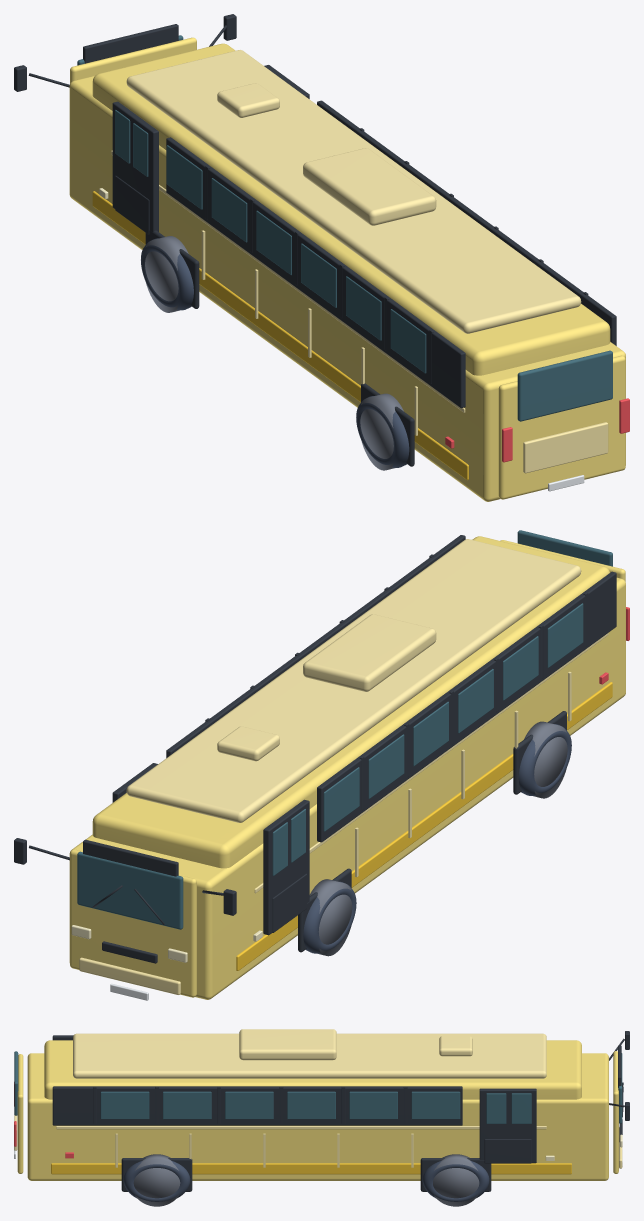
Rendered from shop_large_bus_yellow.fbx.
3 renders of one model, top to bottom at view 1: azimuth 30°, elevation 25°; view 2: azimuth 150°, elevation 25°; view 3: azimuth 270°, elevation 25°, orthographic. The views are drawn at different scales.
Visible parts, largest first — view 1: BusPop Live City Bus Flat Roof Highlight, BusPop Live City Bus Low Long Body, BusPop Live City Bus Upper Body Cap, BusPop Live City Bus Left Continuous Black Window Band, BusPop Live City Bus Rear Flat Face, BusPop Live City Bus Roof AC Long Unit, BusPop Live City Bus Rear Glass, BusPop Live City Bus Lower Yellow Skirt, BusPop Live City Bus Right Continuous Black Window Band, BusPop Live City Bus Rear Hatch Panel, BusPop Live City Bus Left Front Door Black Frame, BusPop Live City Bus Front Left Wheel Disc (+18 smaller); view 2: BusPop Live City Bus Flat Roof Highlight, BusPop Live City Bus Low Long Body, BusPop Live City Bus Upper Body Cap, BusPop Live City Bus Left Continuous Black Window Band, BusPop Live City Bus Front Flat Face, BusPop Live City Bus Roof AC Long Unit, BusPop Live City Bus Front Glass, BusPop Live City Bus Lower Yellow Skirt, BusPop Live City Bus Left Front Door Black Frame, BusPop Live City Bus Right Continuous Black Window Band, BusPop Live City Bus Rear Left Wheel Disc, BusPop Live City Bus Front Left Wheel Disc (+17 smaller); view 3: BusPop Live City Bus Low Long Body, BusPop Live City Bus Flat Roof Highlight, BusPop Live City Bus Upper Body Cap, BusPop Live City Bus Right Continuous Black Window Band, BusPop Live City Bus Lower Yellow Skirt, BusPop Live City Bus Roof AC Long Unit, BusPop Live City Bus Right Front Door Black Frame, BusPop Live City Bus Thin Body Belt, BusPop Live City Bus Front Right Wheel Disc, BusPop Live City Bus Rear Right Wheel Disc, BusPop Live City Bus Right Side Glass 1, BusPop Live City Bus Right Side Glass 6 (+15 smaller).
Boxes of the visible parts, <box> form: BusPop Live City Bus Flat Roof Highlight: <box>126,50,581,333</box>; BusPop Live City Bus Low Long Body: <box>69,75,625,501</box>; BusPop Live City Bus Upper Body Cap: <box>92,43,610,375</box>; BusPop Live City Bus Left Continuous Black Window Band: <box>166,137,465,408</box>; BusPop Live City Bus Rear Flat Face: <box>498,355,625,499</box>; BusPop Live City Bus Roof AC Long Unit: <box>303,148,436,225</box>; BusPop Live City Bus Rear Glass: <box>517,350,612,421</box>; BusPop Live City Bus Lower Yellow Skirt: <box>92,191,468,480</box>; BusPop Live City Bus Right Continuous Black Window Band: <box>317,100,616,345</box>; BusPop Live City Bus Rear Hatch Panel: <box>523,422,608,473</box>; BusPop Live City Bus Left Front Door Black Frame: <box>112,101,158,232</box>; BusPop Live City Bus Front Left Wheel Disc: <box>145,236,188,312</box>; BusPop Live City Bus Flat Roof Highlight: <box>126,539,581,822</box>; BusPop Live City Bus Low Long Body: <box>69,577,625,999</box>; BusPop Live City Bus Upper Body Cap: <box>92,536,609,868</box>; BusPop Live City Bus Left Continuous Black Window Band: <box>317,571,616,842</box>; BusPop Live City Bus Front Flat Face: <box>70,849,196,997</box>; BusPop Live City Bus Roof AC Long Unit: <box>303,614,436,691</box>; BusPop Live City Bus Front Glass: <box>77,851,183,929</box>; BusPop Live City Bus Lower Yellow Skirt: <box>236,682,612,970</box>; BusPop Live City Bus Left Front Door Black Frame: <box>263,799,309,935</box>; BusPop Live City Bus Right Continuous Black Window Band: <box>166,535,465,757</box>; BusPop Live City Bus Rear Left Wheel Disc: <box>524,721,567,798</box>; BusPop Live City Bus Front Left Wheel Disc: <box>309,879,352,956</box>; BusPop Live City Bus Low Long Body: <box>27,1053,608,1180</box>; BusPop Live City Bus Flat Roof Highlight: <box>73,1033,546,1078</box>; BusPop Live City Bus Upper Body Cap: <box>44,1040,581,1099</box>; BusPop Live City Bus Right Continuous Black Window Band: <box>52,1086,462,1125</box>; BusPop Live City Bus Lower Yellow Skirt: <box>51,1163,571,1174</box>; BusPop Live City Bus Roof AC Long Unit: <box>239,1029,336,1060</box>; BusPop Live City Bus Right Front Door Black Frame: <box>479,1088,536,1163</box>; BusPop Live City Bus Thin Body Belt: <box>56,1126,546,1129</box>; BusPop Live City Bus Front Right Wheel Disc: <box>433,1154,479,1206</box>; BusPop Live City Bus Rear Right Wheel Disc: <box>133,1154,180,1206</box>; BusPop Live City Bus Right Side Glass 1: <box>100,1091,149,1119</box>; BusPop Live City Bus Right Side Glass 6: <box>411,1091,460,1119</box>.
Bounding box in the file's own units: 62.73 × 54.06 × 219.
